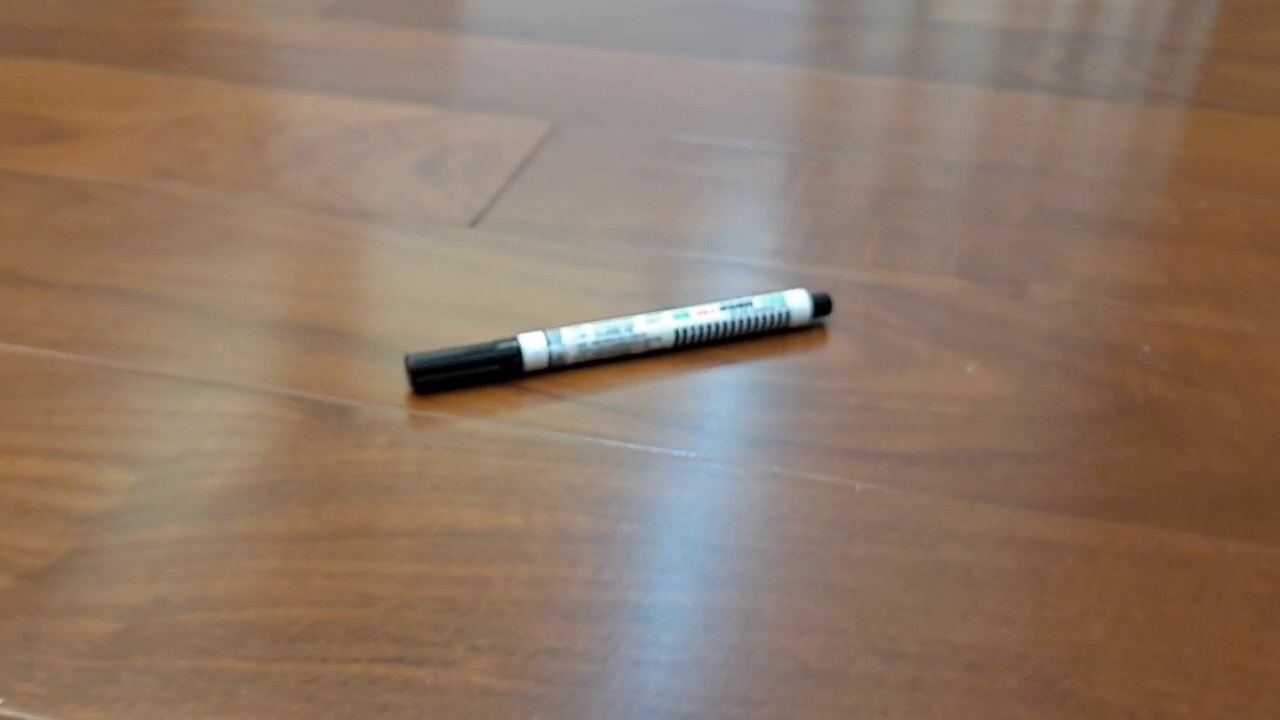pen: (405, 286, 833, 396)
